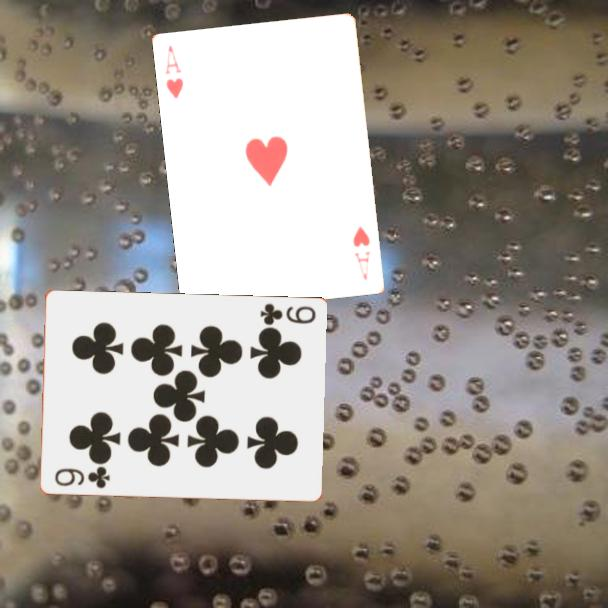c09: (51, 464, 113, 492), (256, 300, 318, 328)
h01: (161, 42, 187, 102), (350, 223, 374, 284)
